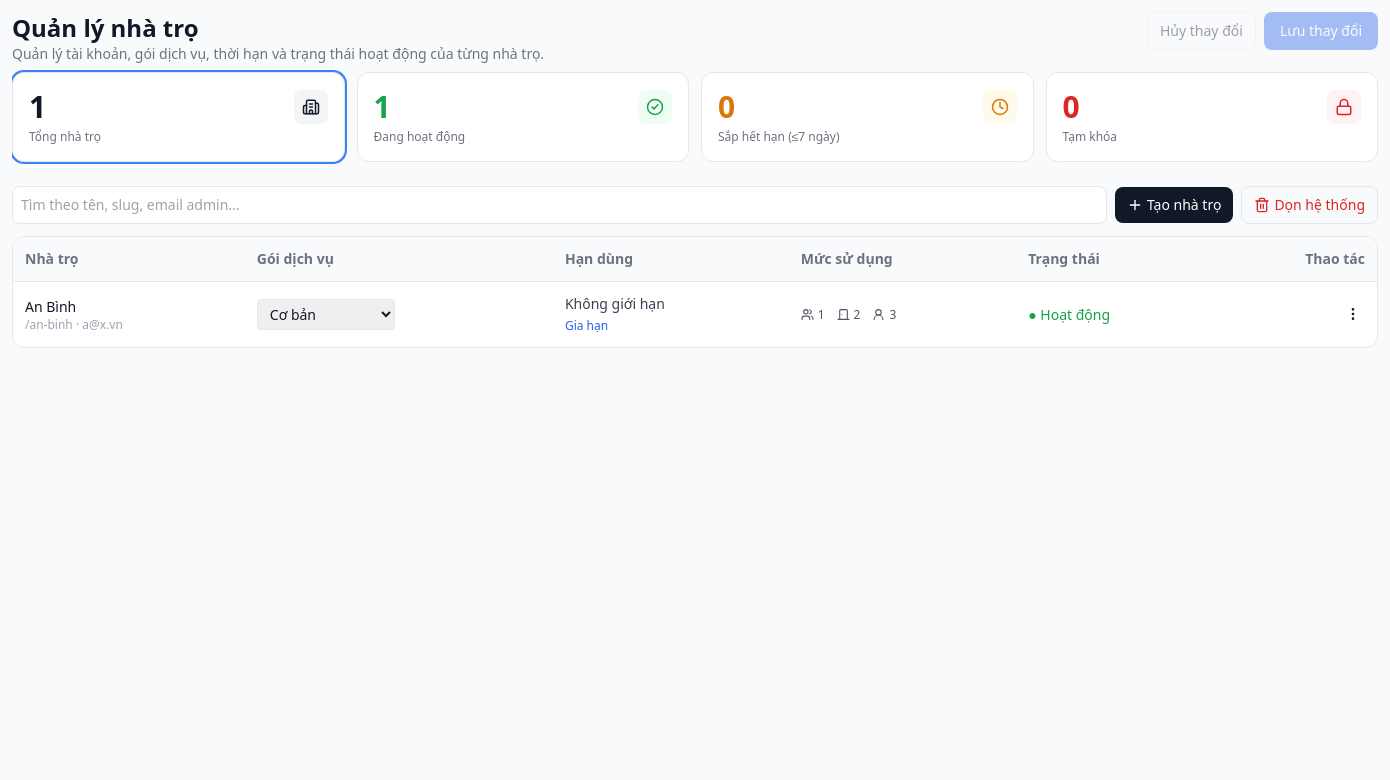
Test: Trang Quản lý nhà trọ › đổi gói -> tạo DRAFT, KHÔNG gọi API, nút Lưu bật với (1)
Check: the text "An Bình" is shown, box [25, 296, 76, 316]
Select "Chuyên nghiệp" in the dropdown at x=326, y=314, box [257, 299, 395, 330]
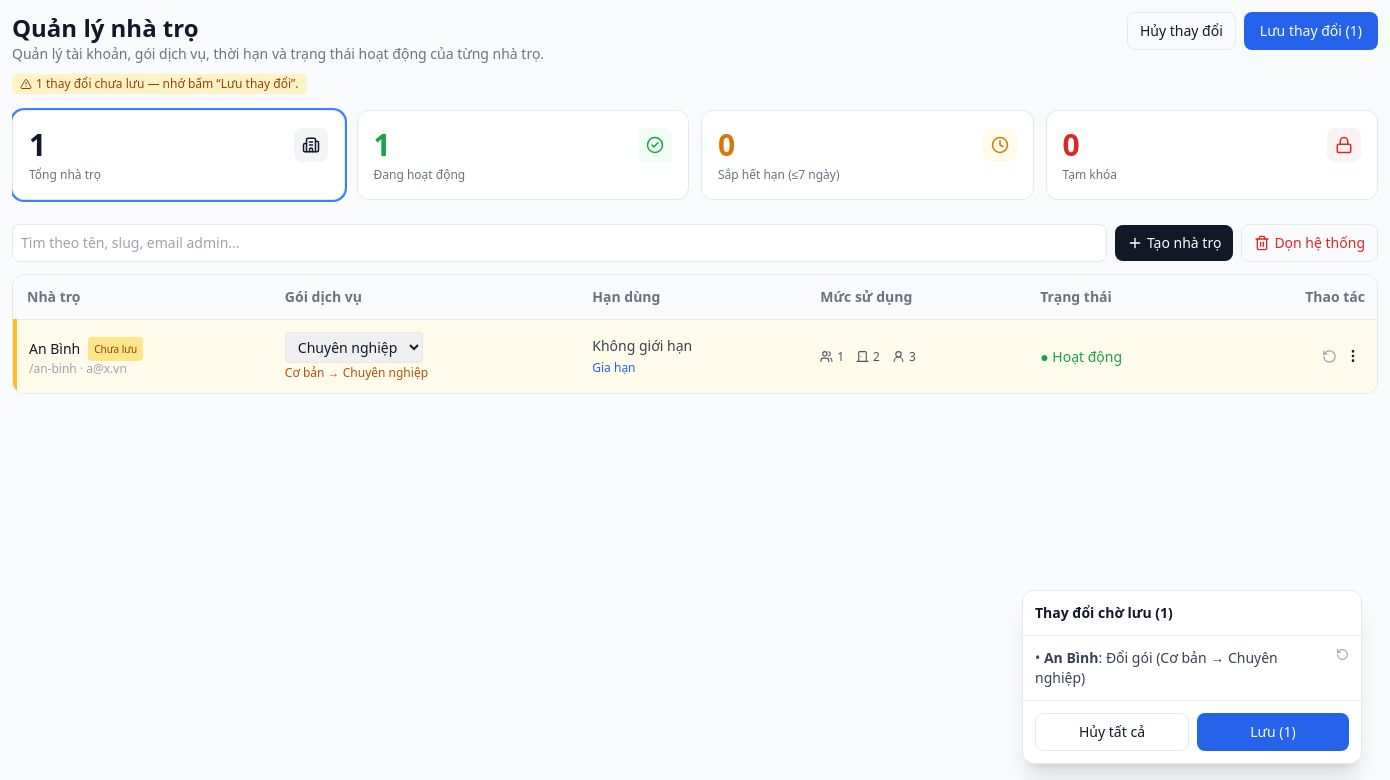
Check: the button "Lưu thay đổi (1)" is enabled, box [1244, 12, 1378, 50]
